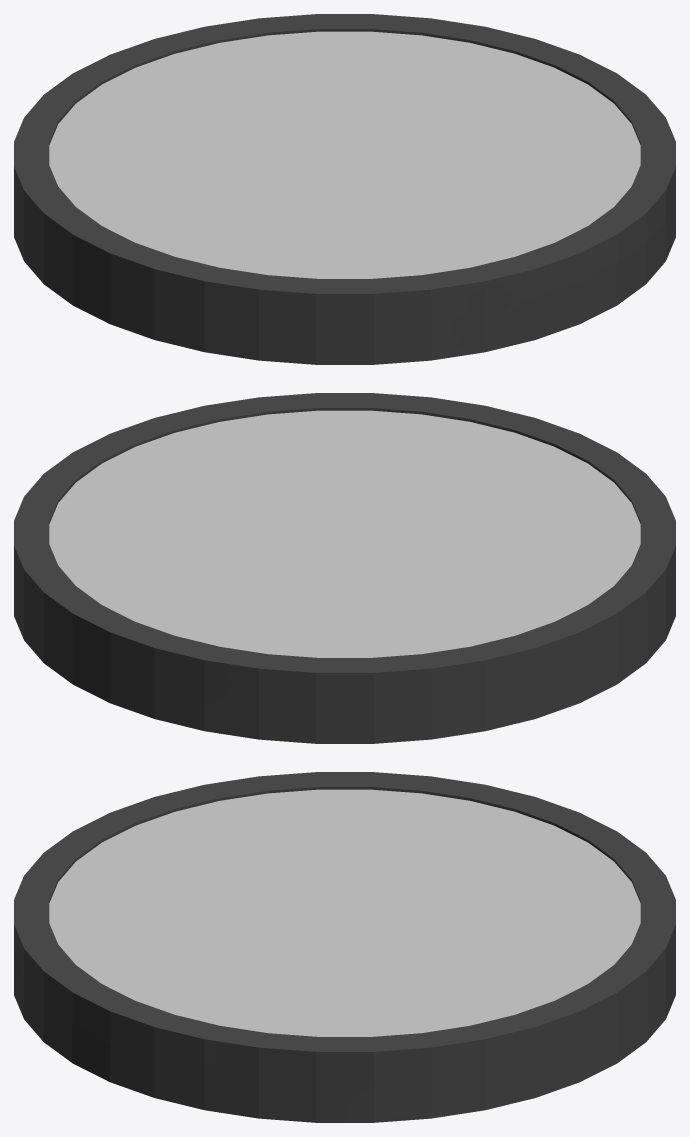
Rendered from Clock.fbx.
The picture shows the model from 3 angles, top to bottom: view 1: azimuth 30°, elevation 25°; view 2: azimuth 150°, elevation 25°; view 3: azimuth 270°, elevation 25°; orthographic projection.
Parts seen in each view (by area): view 1: Glass, Clock; view 2: Glass, Clock; view 3: Glass, Clock.
Boxes of the visible parts, box(x1,y1,x2,y2) form: Glass: box(49, 31, 640, 278); Clock: box(14, 14, 675, 364); Glass: box(49, 410, 640, 657); Clock: box(14, 393, 675, 743); Glass: box(49, 789, 640, 1036); Clock: box(14, 772, 675, 1122).
Bounding box in the file's own units: 199 × 23.58 × 199.
